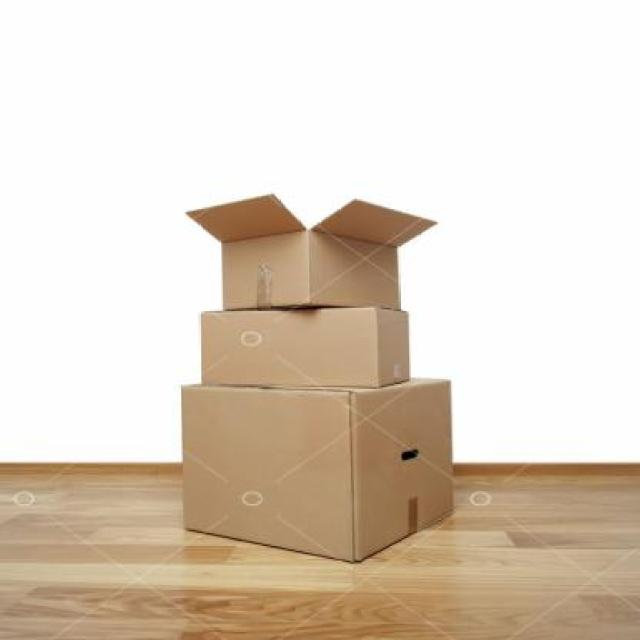box: (162, 377, 508, 577), (169, 184, 448, 320), (178, 308, 472, 397)
